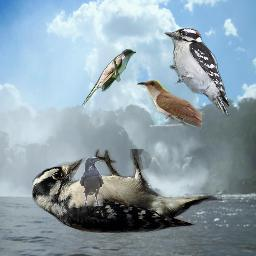Crow: (79, 157, 104, 206)
Cuckoo: (135, 80, 202, 129), (82, 49, 136, 106)
Woodpecker: (32, 149, 222, 233), (164, 28, 229, 118)
